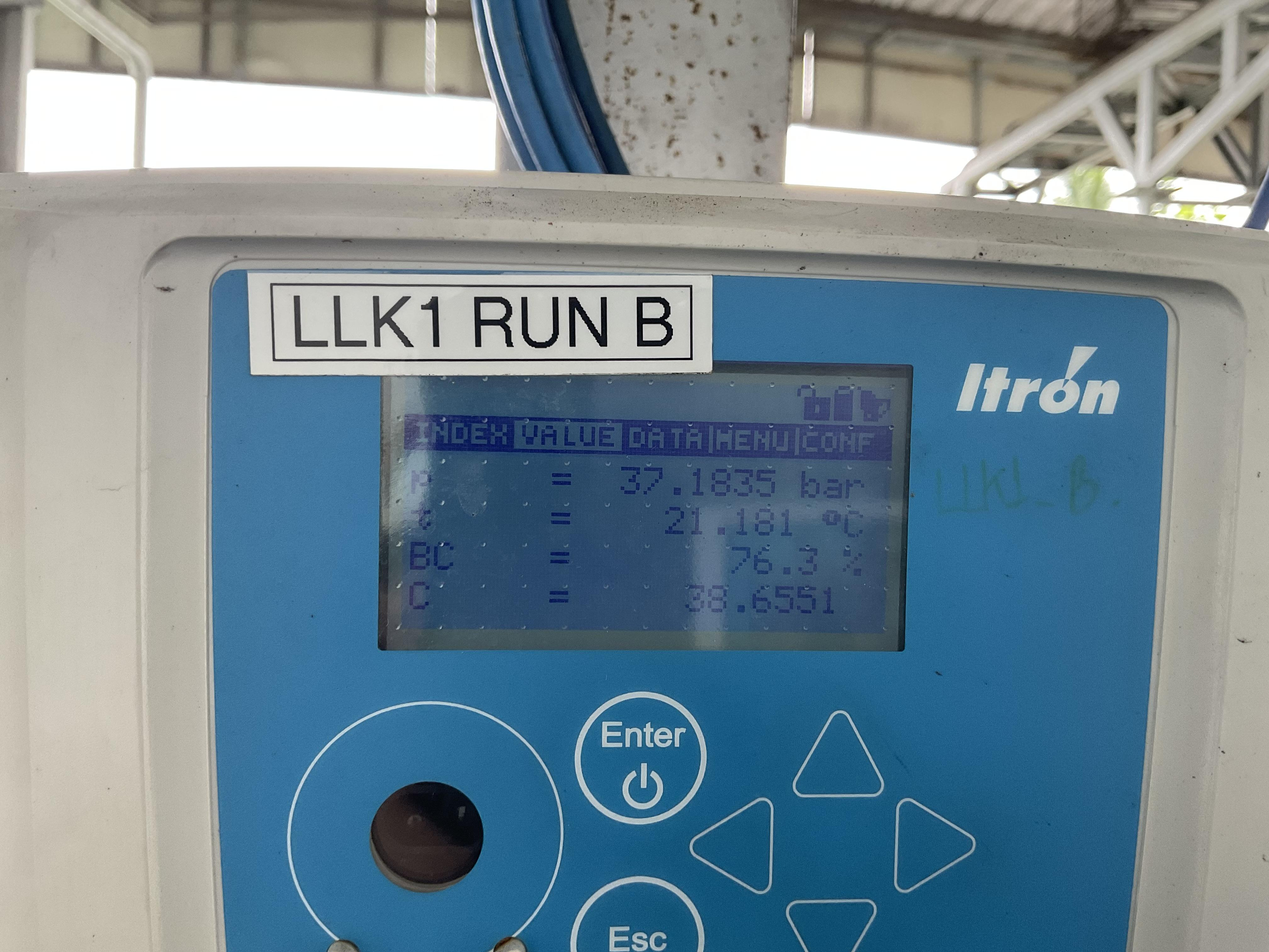digital_screen: (378, 357, 914, 655)
